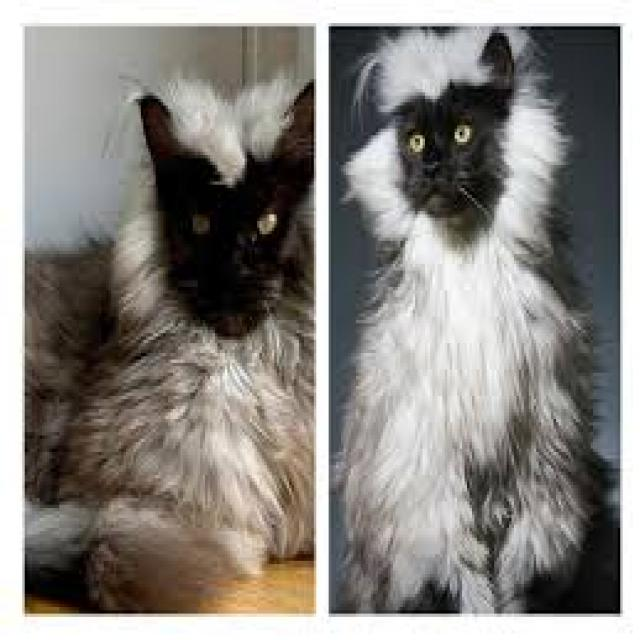cat: (97, 69, 340, 451), (357, 44, 568, 426)
